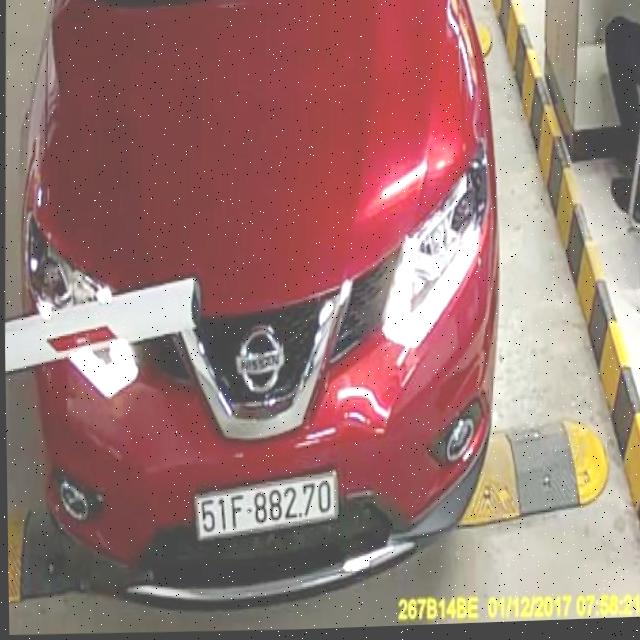car: (5, 0, 515, 608)
plate: (193, 471, 340, 542)
